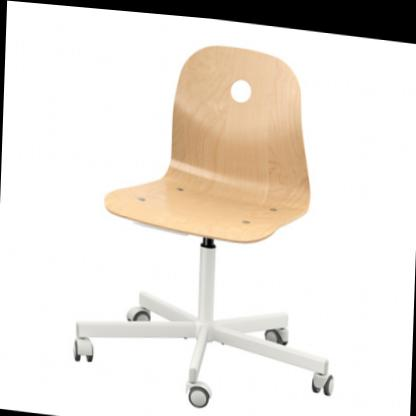Chair: (69, 21, 348, 416)
